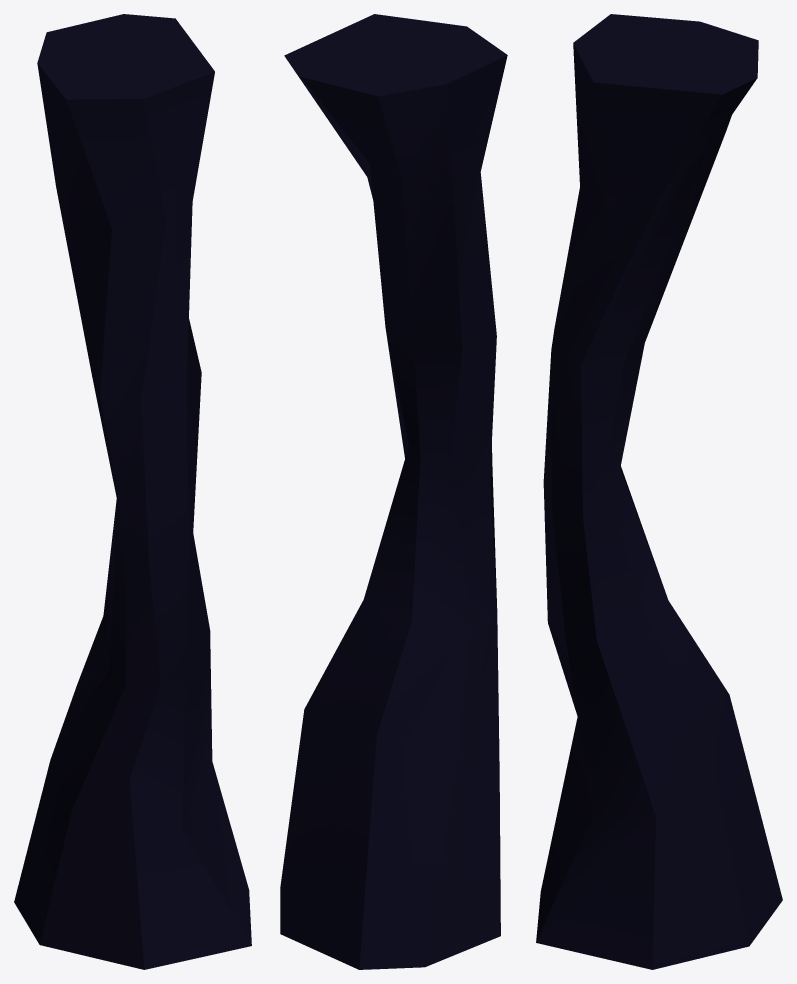
The model's file is C.coisa.fbx.
3 views of the same model, side by side, from view 1: azimuth 30°, elevation 25°; view 2: azimuth 150°, elevation 25°; view 3: azimuth 270°, elevation 25° (orthographic).
Visible parts, largest first — view 1: pCylinder19; view 2: pCylinder19; view 3: pCylinder19.
Boxes of the visible parts, x1,y1,x2,y2 form: pCylinder19: (14,14,251,969); pCylinder19: (280,14,507,969); pCylinder19: (536,14,782,969).
Size of the model in its own units: 2.34 by 8.96 by 2.34.
